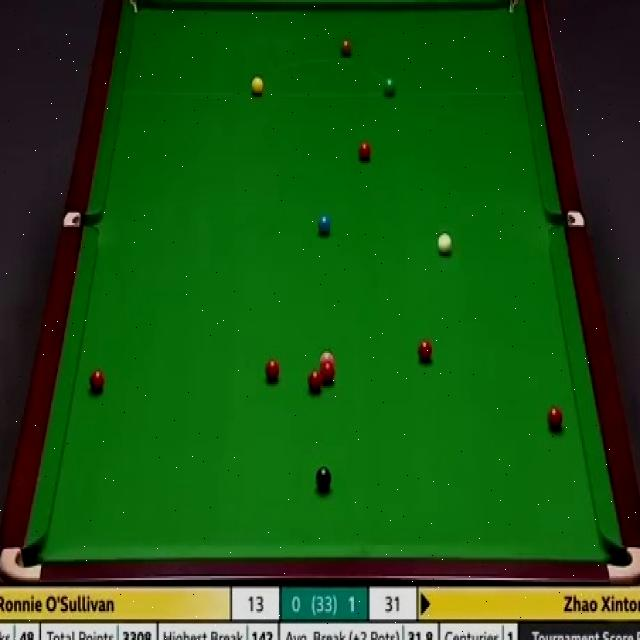black-ball: (316, 464, 332, 487)
blue-ball: (317, 213, 332, 236)
brown-ball: (339, 38, 352, 56)
green-ball: (382, 75, 396, 97)
pink-ball: (319, 350, 336, 368)
red-ball: (417, 336, 433, 364), (546, 407, 564, 430), (264, 358, 280, 383), (89, 367, 104, 393), (357, 138, 372, 162), (308, 371, 323, 393), (319, 366, 334, 382)
white-ball: (437, 231, 454, 257)
yellow-ball: (251, 75, 264, 95)
